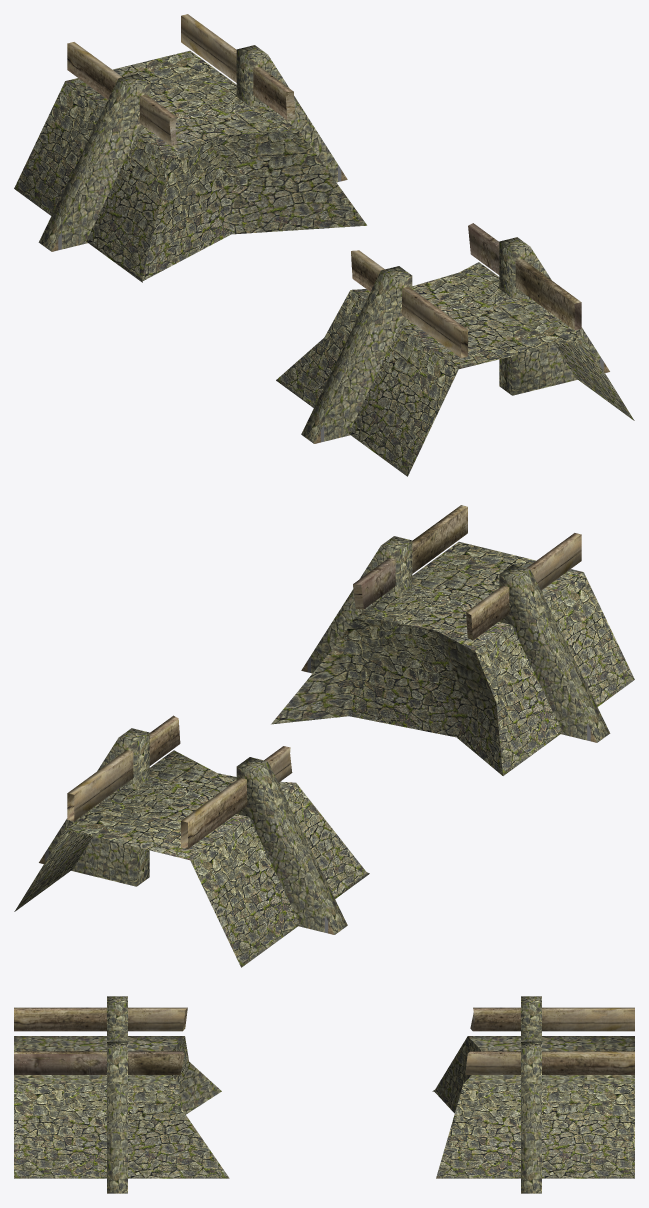
The model's file is I-Tile_Broken.fbx.
3 renders of one model, top to bottom at view 1: azimuth 30°, elevation 25°; view 2: azimuth 150°, elevation 25°; view 3: azimuth 270°, elevation 25°, orthographic. The views are drawn at different scales.
Parts seen in each view (by area): view 1: I-Tile Broken; view 2: I-Tile Broken; view 3: I-Tile Broken.
Boxes of the visible parts, left/top/right/bottom form: I-Tile Broken: left=14, top=14, right=634, bottom=476; I-Tile Broken: left=14, top=505, right=634, bottom=967; I-Tile Broken: left=14, top=996, right=634, bottom=1193.
Size of the model in its own units: 130 by 60.81 by 300.
